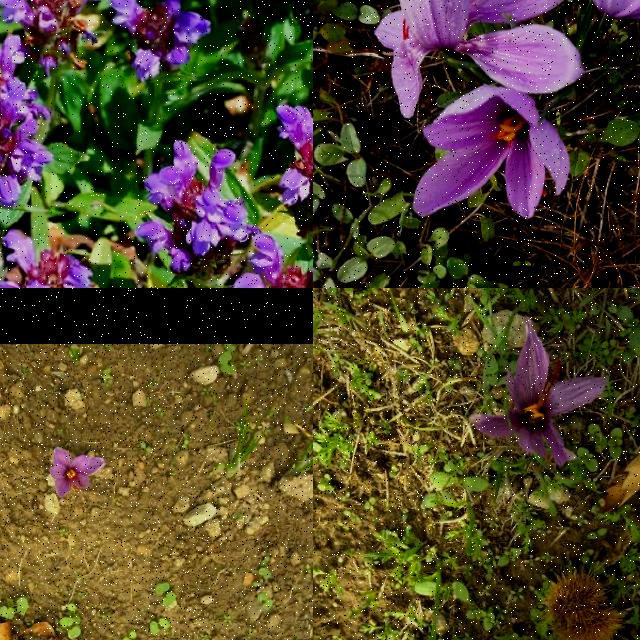flower: (375, 0, 585, 119), (412, 84, 572, 220), (470, 325, 610, 465), (48, 447, 106, 499), (590, 0, 640, 21)
